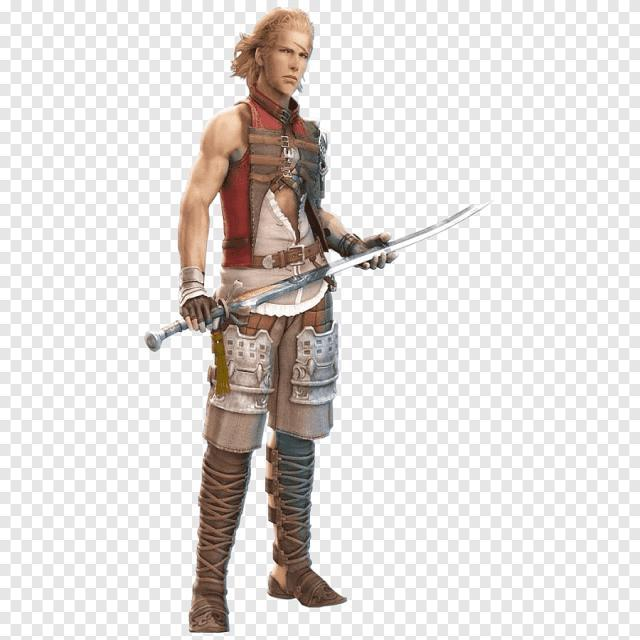sword: (145, 198, 497, 349)
